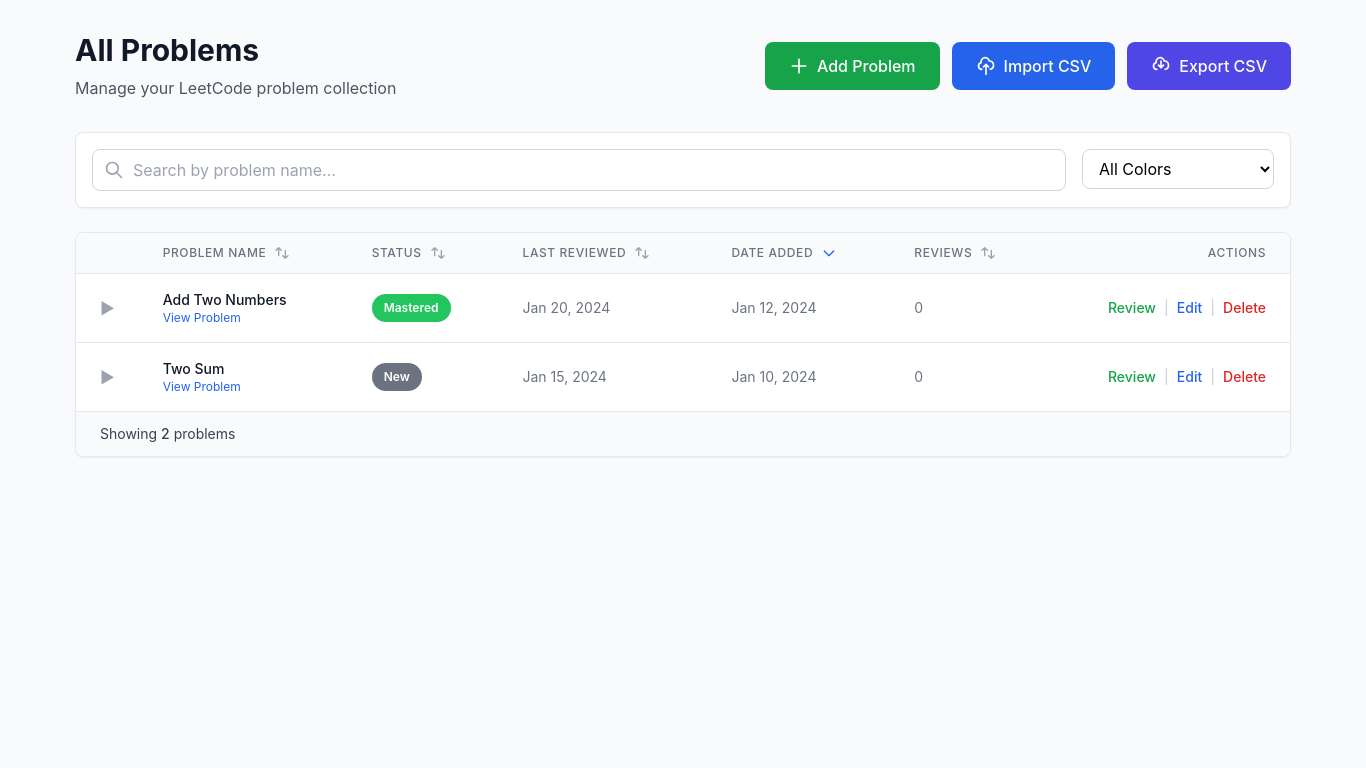
Test: AllProblems › Import CSV Modal Integration › should open import modal when Import CSV button clicked
Click the button "Import CSV" at {"x": 1033, "y": 66}, box x1=952 y1=42 x2=1115 y2=90
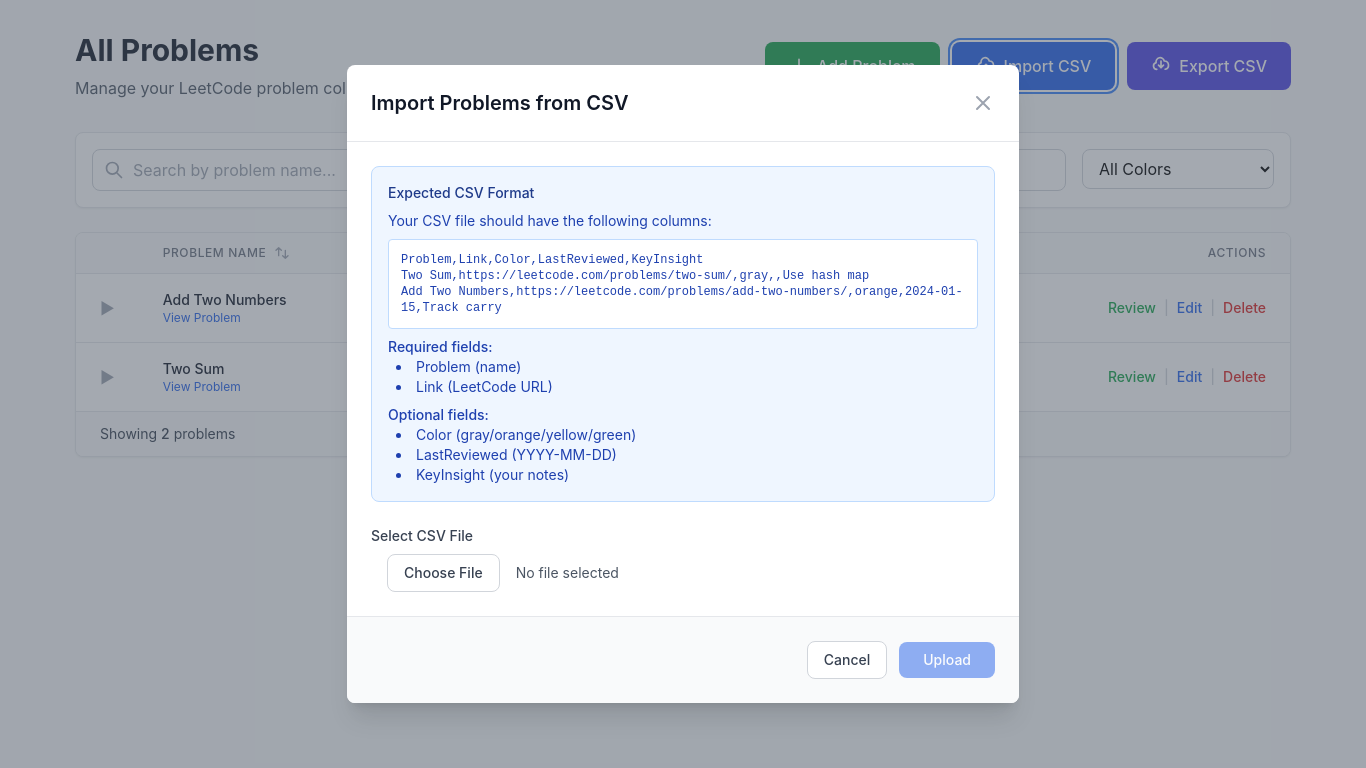
Check: the heading "Import Problems from CSV" is shown, box x1=371 y1=89 x2=629 y2=117
